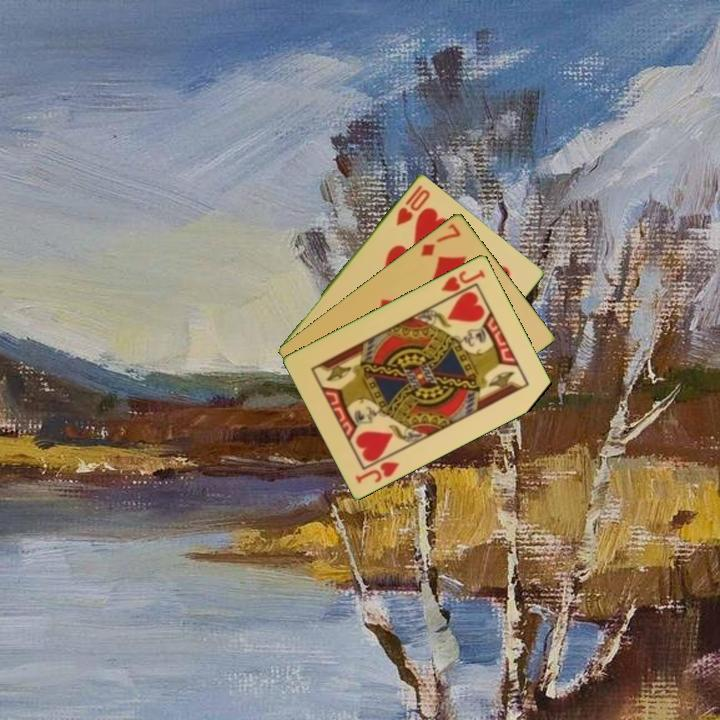10h: (392, 181, 433, 228)
7d: (417, 220, 464, 259)
Jh: (438, 266, 488, 303), (352, 458, 402, 486)
